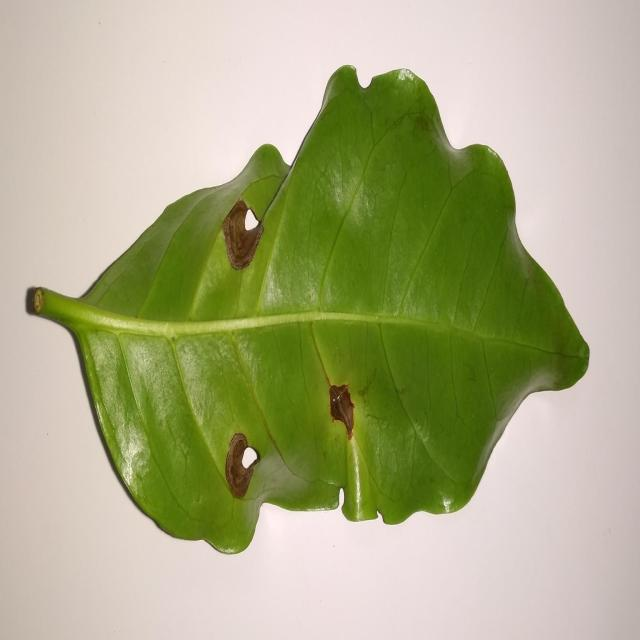Enfermedad-Antracnosis: (23, 66, 591, 558)
